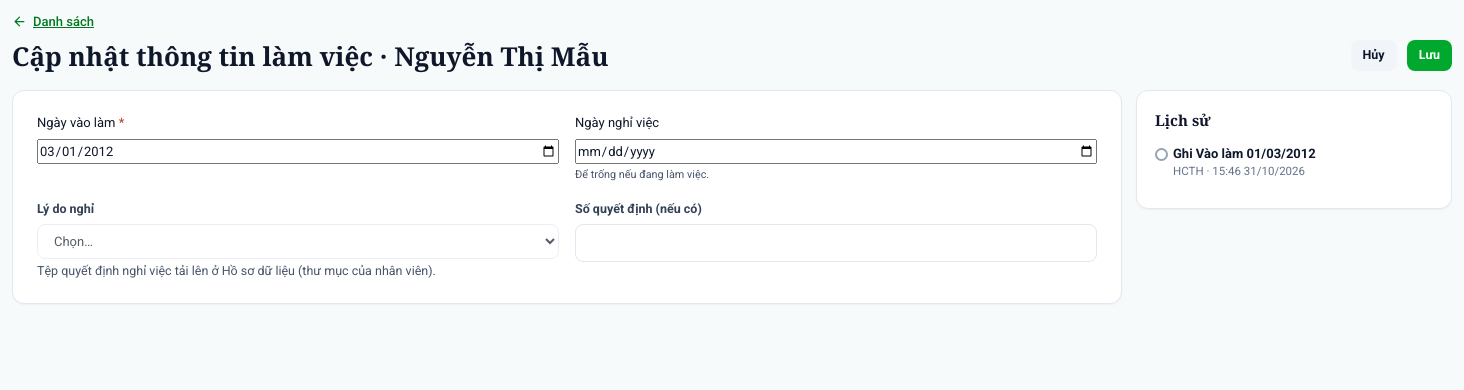
Test: màn Thông tin làm việc (giả lập API /v1/hrm/staff*) › validation guard: ngày nghỉ trước ngày vào làm không gọi API ghi
Type "1900-01-01" into the date field labelled "Ngày nghỉ việc" at [836, 151], box [575, 138, 1097, 164]
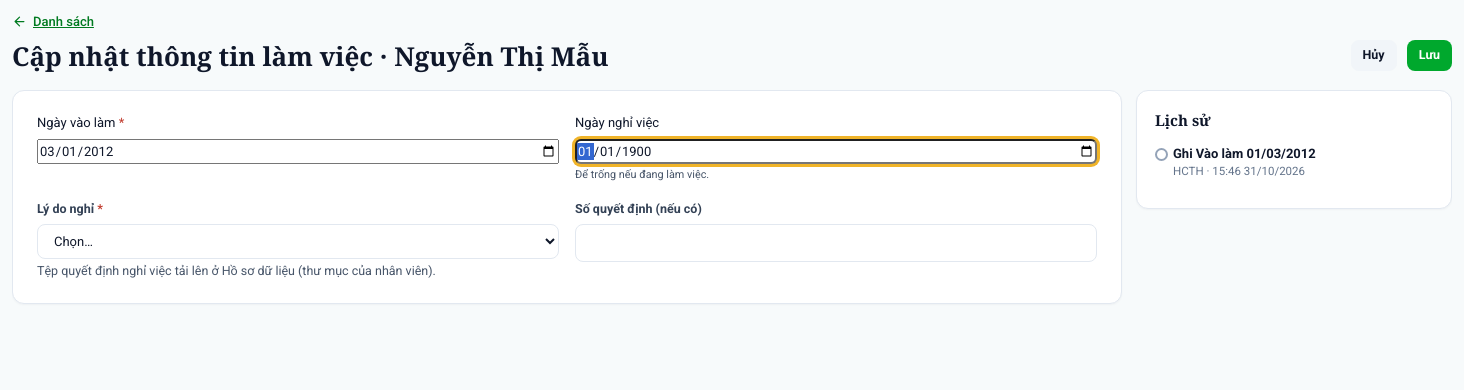
Select "Nghỉ hưu" in the dropdown labelled "Lý do nghỉ *" at [298, 242], box [37, 224, 559, 259]
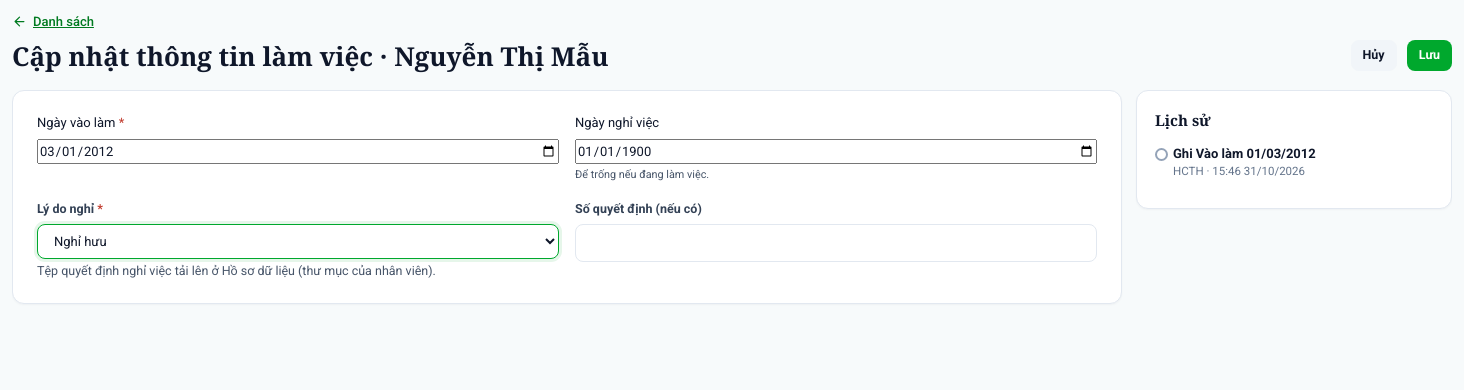
Click the button "Lưu" at [1429, 56], box [1407, 40, 1452, 71]
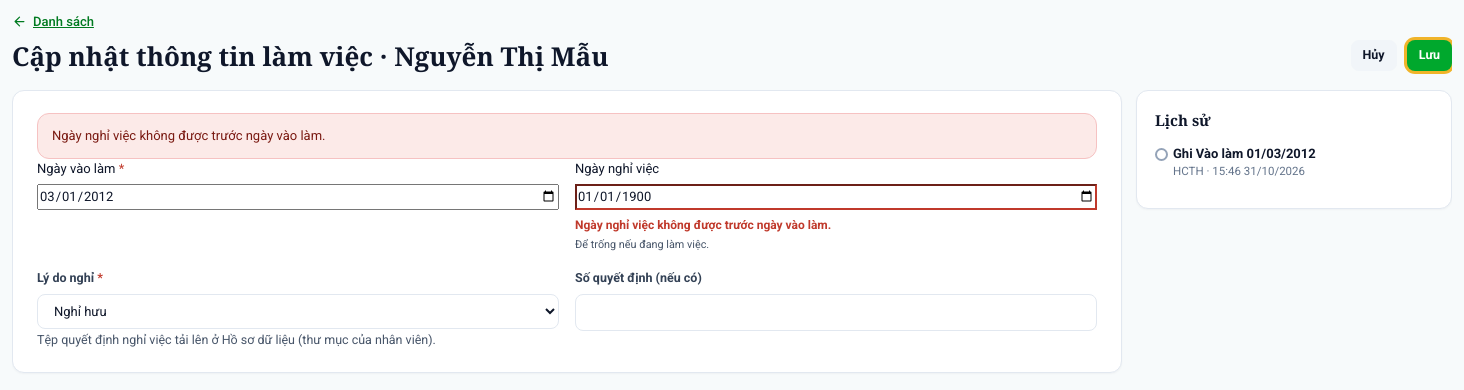
Now the message reads "Ngày nghỉ việc không được trước ngày vào làm.", box [52, 128, 326, 143]
